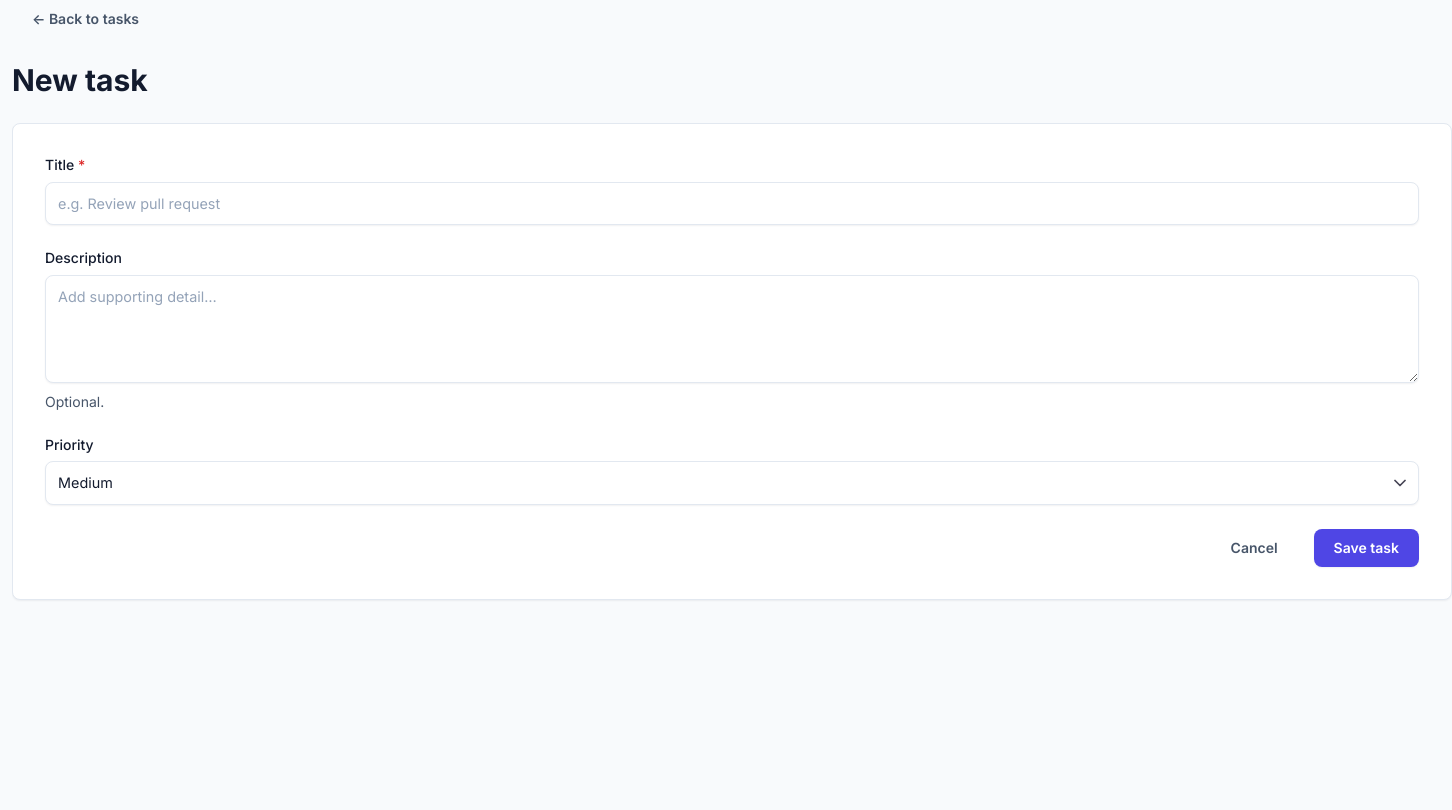
Scenario: TaskCreatePage › renders a 422 detail verbatim, as the string this backend sends
Type "Too long" into the field labelled "Title *" at (732, 203), box [45, 182, 1419, 225]
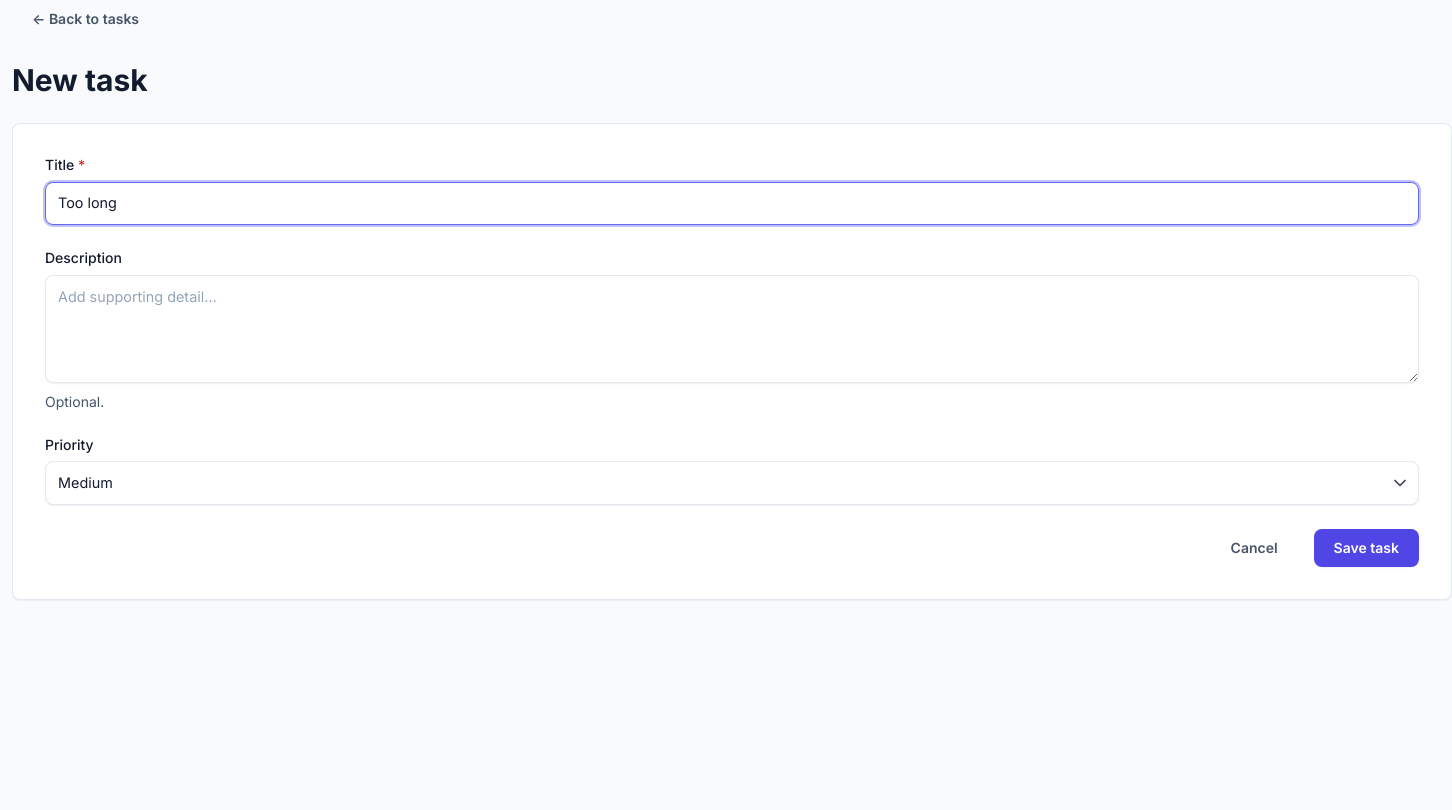
Click the button "Save task" at (1366, 548), box [1314, 529, 1419, 566]
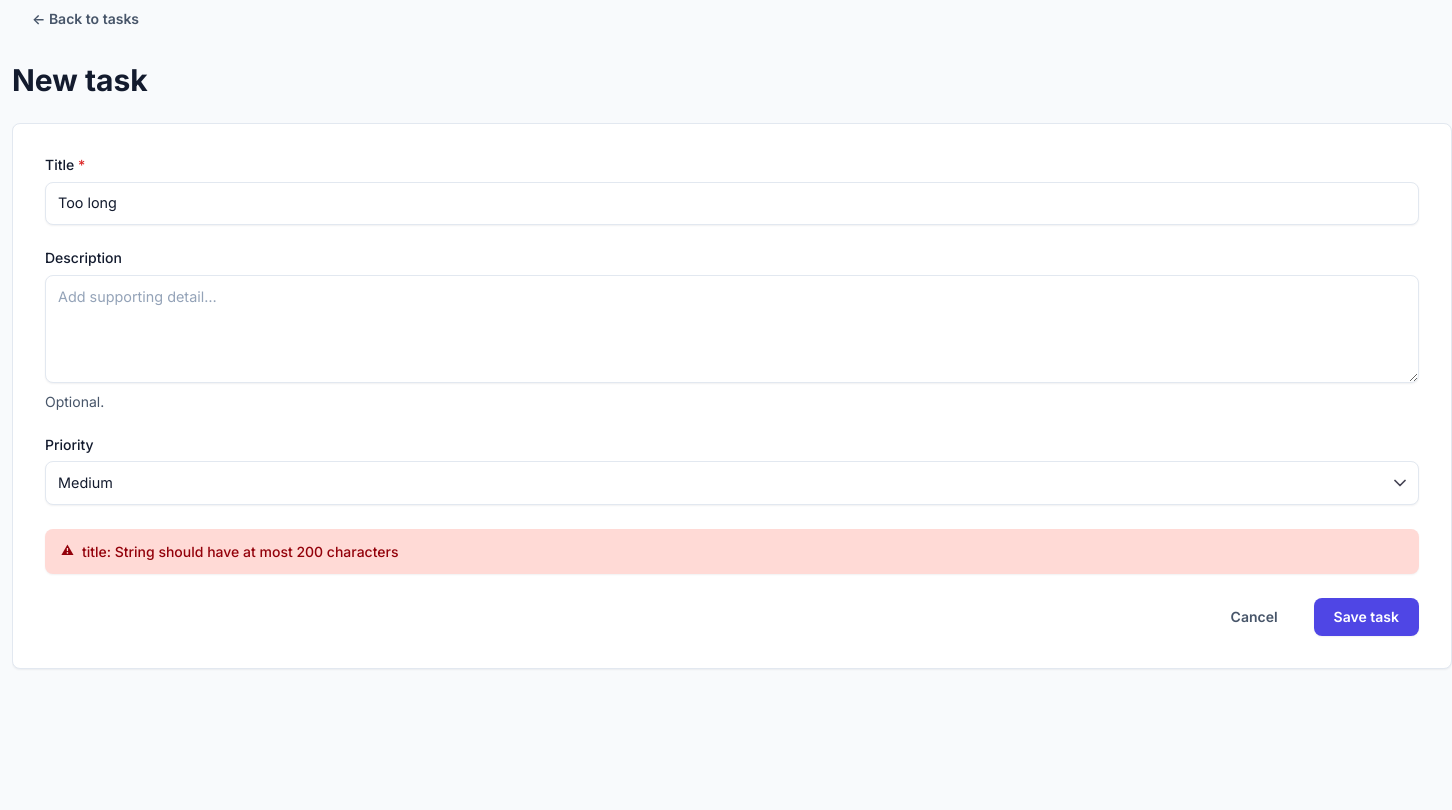
Now the message shows "title: String should have at most 200 characters", box [82, 543, 398, 560]
